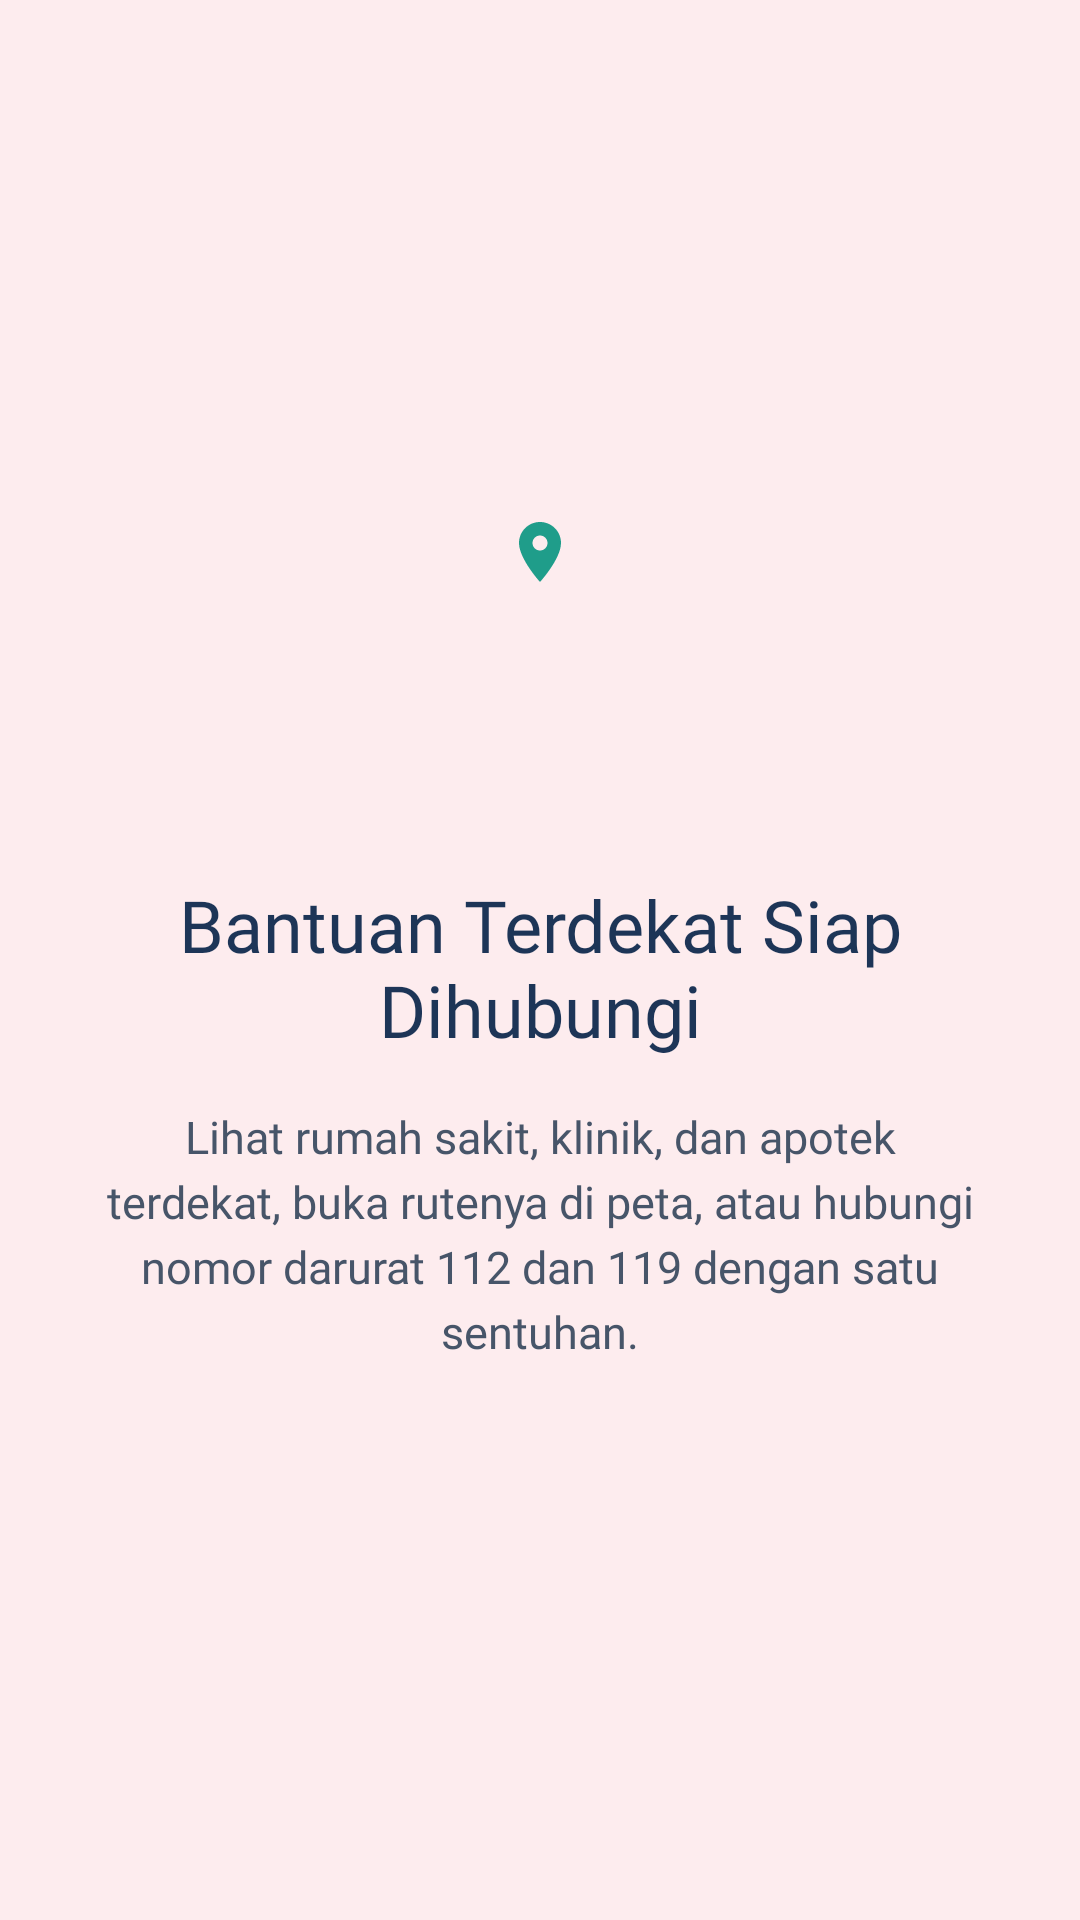

Screen size 1080px×1920px. Icon name, then its box in pixels as bbox=[x1, y1, x2, y2]:
Fasilitas kesehatan terdekat: bbox=[519, 522, 561, 582]
